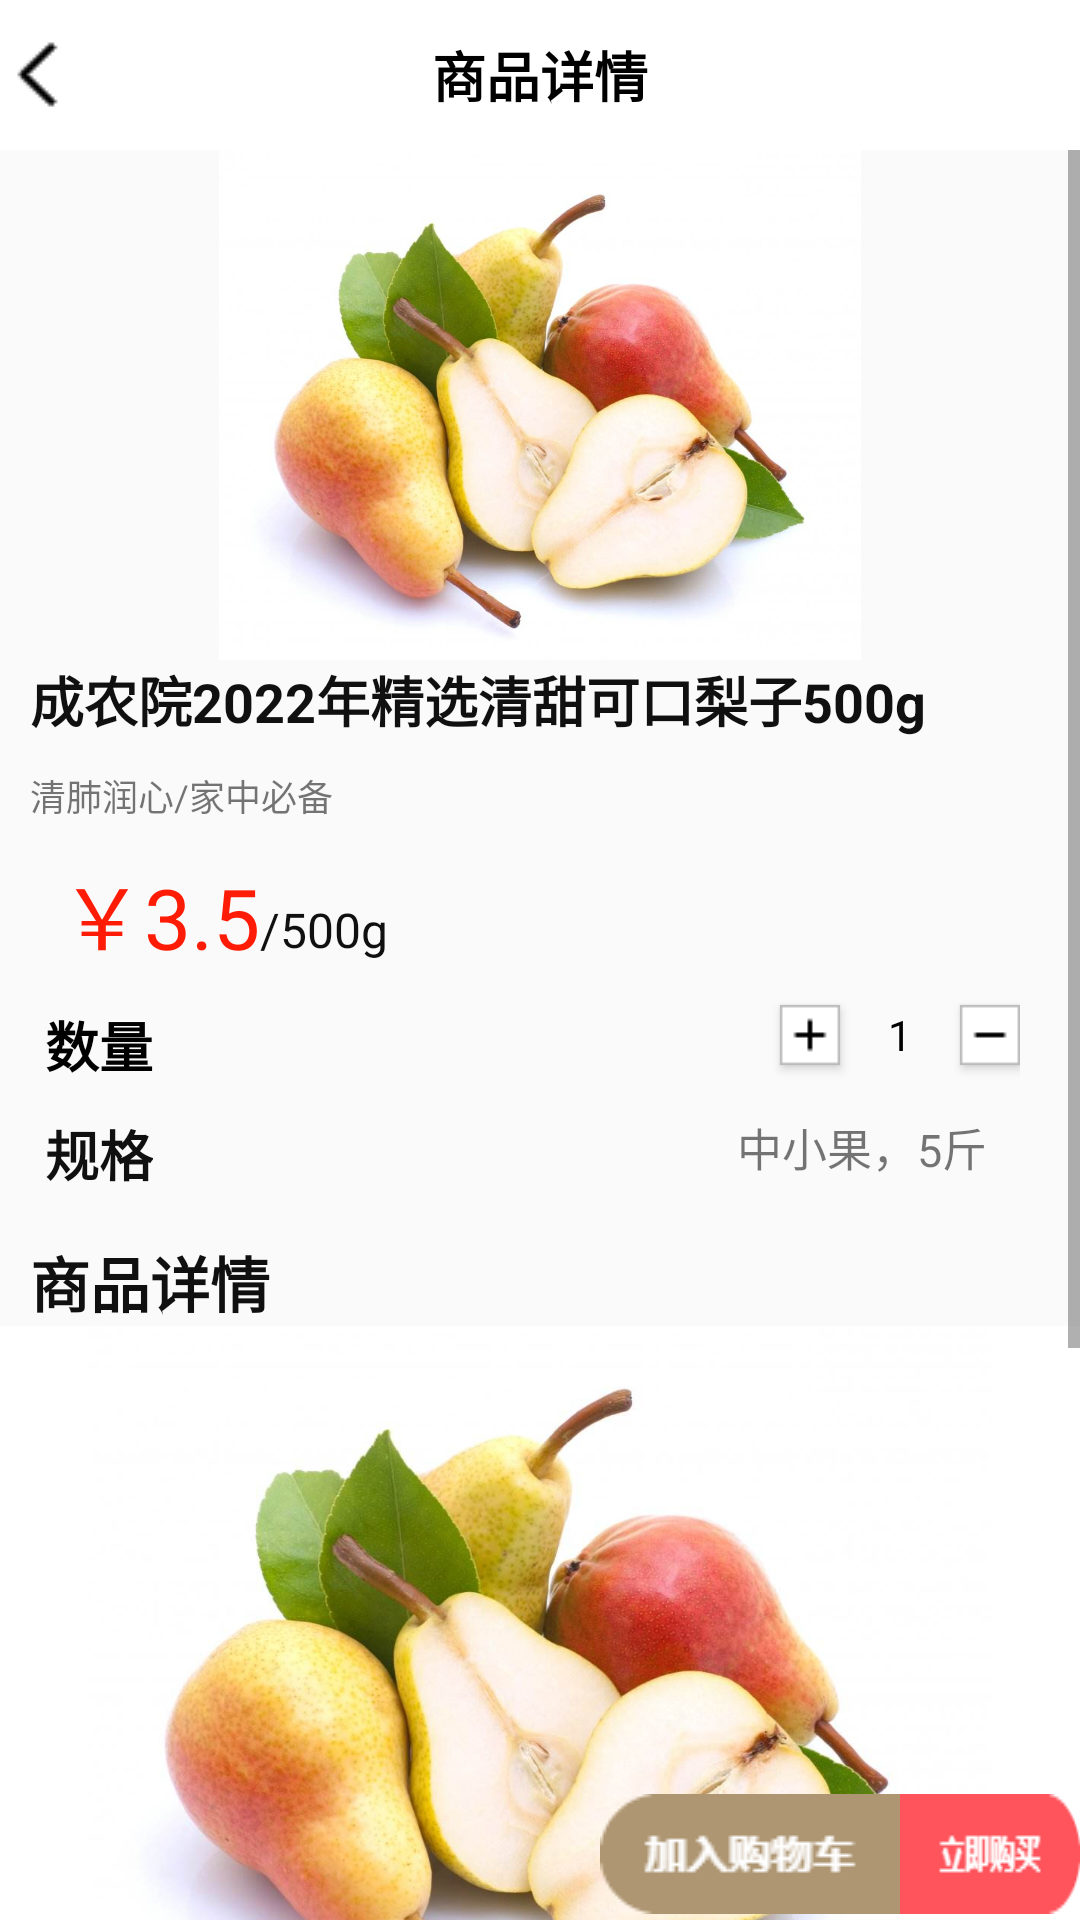

Icon bounding boxes for this 1080 x 1920 phone screenshot, format (x1, y1, x2, y2):
fanhui: (17, 42, 58, 107)
jia: (780, 1005, 840, 1065)
jian: (960, 1005, 1020, 1065)
